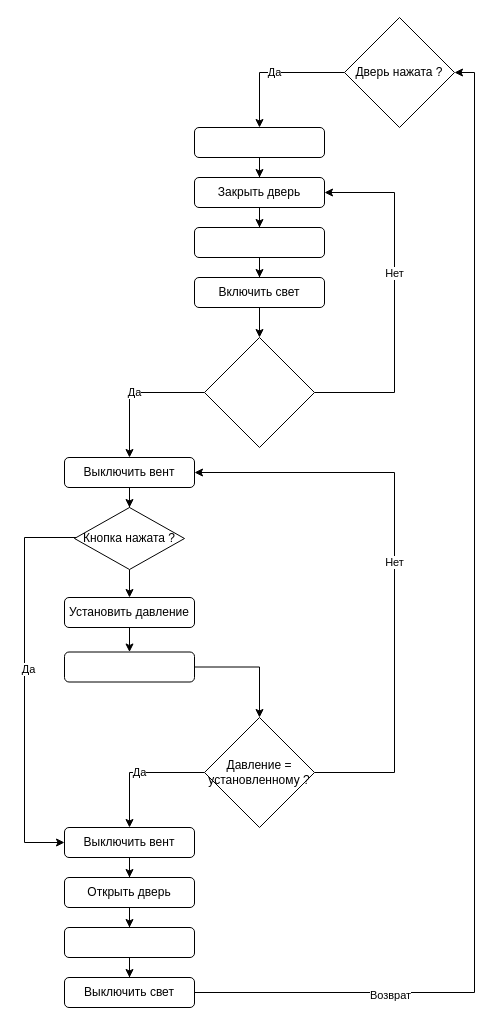
Some shapes in this 500 by 1025 pixel diagram are drawn without their labels. The shapes that lost their labels are listed below. From the top down, each one's centre as x and y in pixels, then its label:
At [259,142]: "Запомнить давление".
At [259,242]: "Включить выдув".
At [259,392]: "Давление = 0 ?".
At [129,666]: "Включить др.вент".
At [129,942]: "Спим 5 сек".
